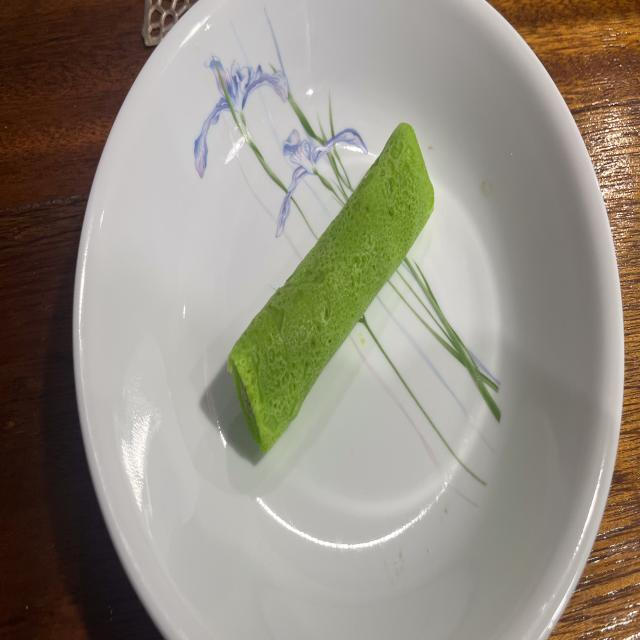Kuih-Ketayap: (229, 122, 434, 451)
